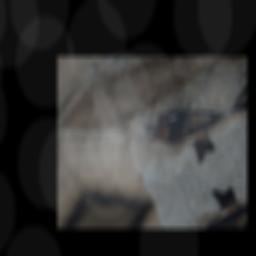Swallow: (141, 87, 237, 179)
